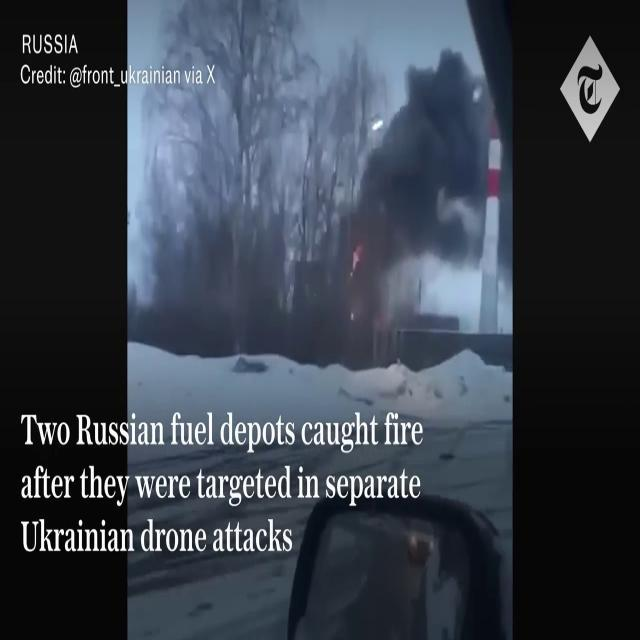Smoke: (347, 3, 497, 315)
